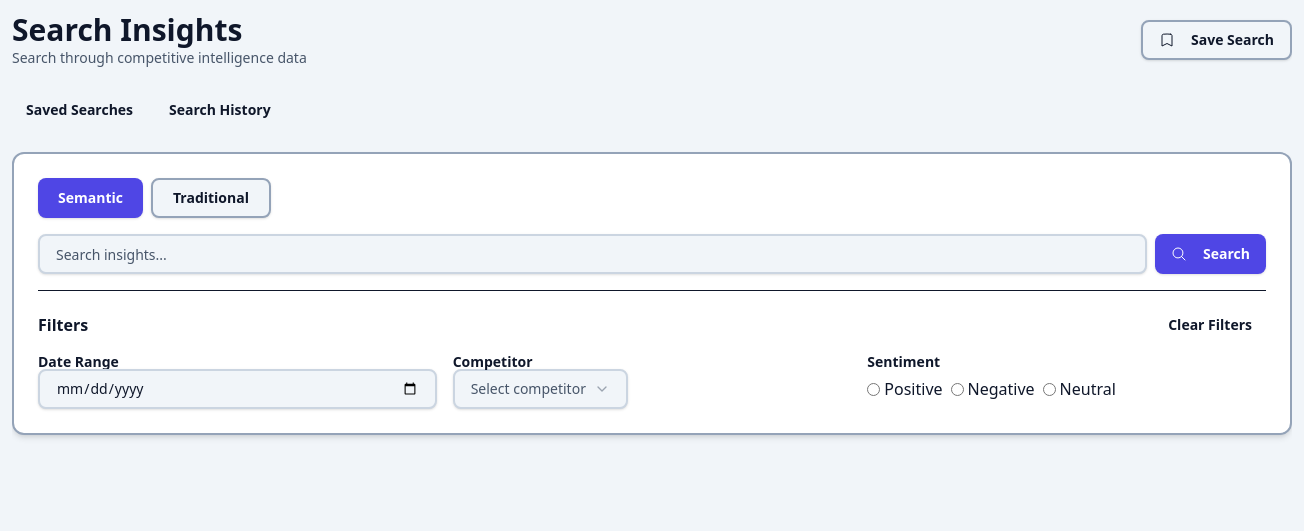
Test case: Search Page - Integration Tests › should display empty state when no results
Type "nonexistent query" into the field with placeholder "Search insights..." at (593, 254), box 38,234 -> 1147,274
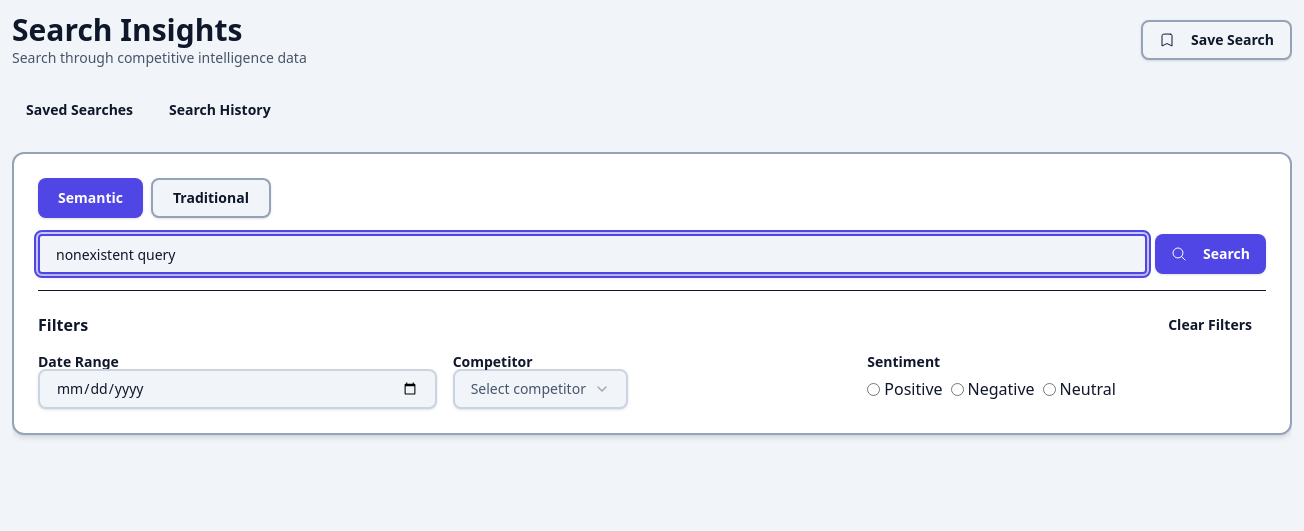
Click the button "Search" at (1211, 254), box 1155,234 -> 1266,274
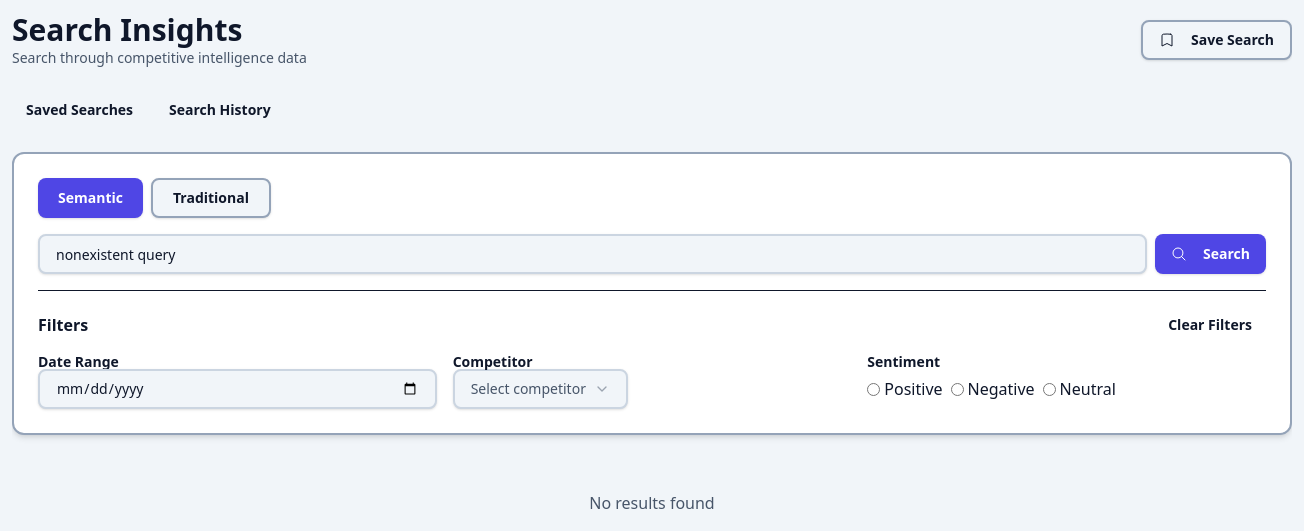
Now the text "No results found" is shown, box 589,492 -> 715,514
